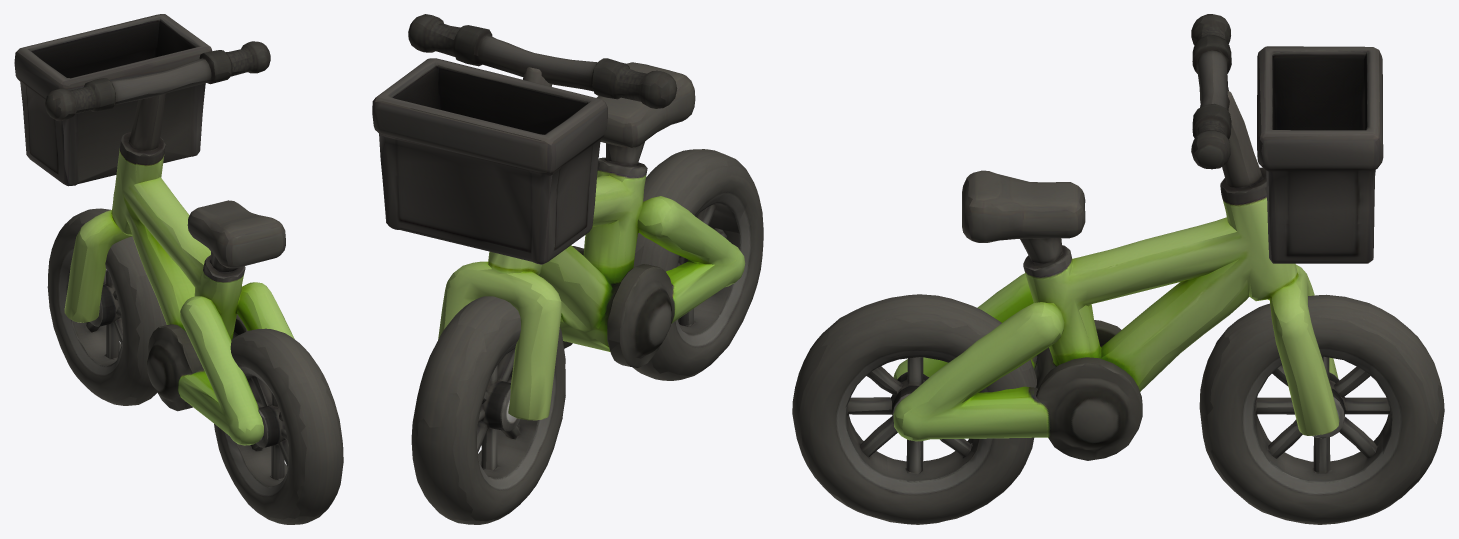
The model's file is Prop_Bicycle_AI.glb.
3 renders of one model, left to right at view 1: azimuth 30°, elevation 25°; view 2: azimuth 150°, elevation 25°; view 3: azimuth 270°, elevation 25°, orthographic. The views are drawn at different scales.
Visible parts, largest first — view 1: Prop_Bicycle_AI; view 2: Prop_Bicycle_AI; view 3: Prop_Bicycle_AI.
Boxes of the visible parts, box(x1,y1,x2,y2) form: Prop_Bicycle_AI: box(14, 14, 343, 524); Prop_Bicycle_AI: box(372, 14, 763, 524); Prop_Bicycle_AI: box(792, 14, 1444, 524).
Bounding box in the file's own units: 0.6377 × 1 × 1.32.
Materials: 3 (3 with a texture image).
